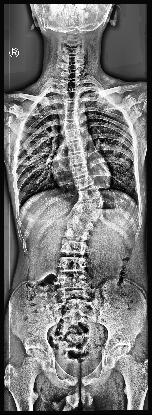Vertebrae: (59, 276, 89, 290), (60, 257, 86, 273), (62, 239, 86, 255), (78, 190, 100, 201), (68, 228, 88, 240), (71, 221, 93, 231), (78, 202, 102, 210), (76, 213, 97, 222), (62, 80, 80, 90), (62, 92, 80, 102), (64, 112, 80, 122), (67, 156, 87, 164), (74, 180, 94, 188), (64, 133, 82, 141), (72, 168, 90, 176), (63, 102, 79, 110), (64, 122, 80, 130), (68, 144, 84, 152)
